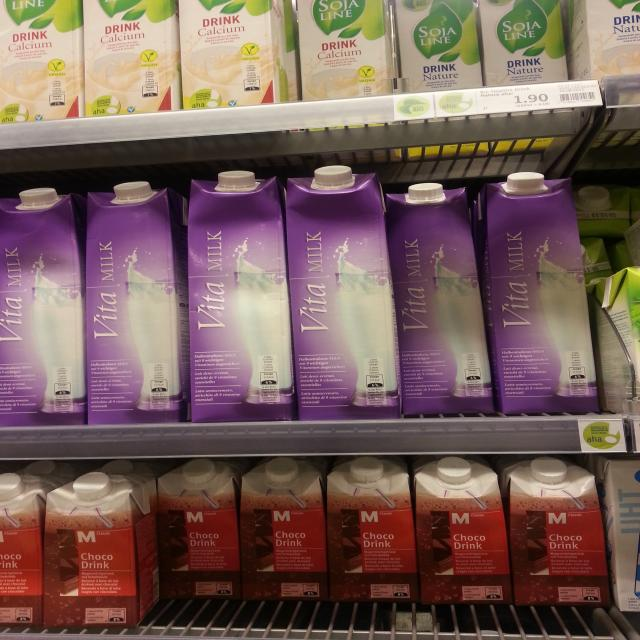Choco: (501, 458, 613, 604), (47, 472, 154, 624), (409, 457, 514, 603), (324, 456, 414, 599), (156, 458, 246, 599), (244, 454, 331, 599), (0, 468, 54, 622)
Milk: (474, 170, 602, 414), (289, 163, 400, 420), (183, 168, 293, 420), (384, 180, 497, 412), (84, 177, 187, 420), (0, 190, 84, 428), (174, 0, 297, 110), (84, 0, 176, 117), (0, 0, 89, 118), (293, 0, 392, 102), (394, 0, 484, 96), (480, 2, 570, 84)
